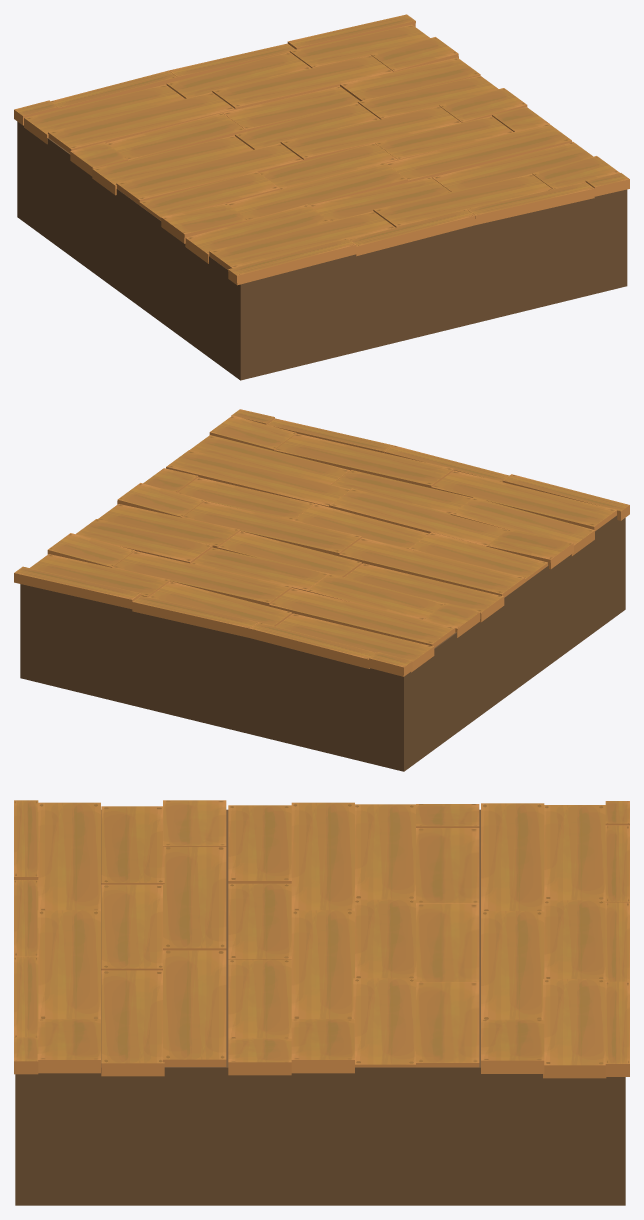
Rendered from floor.glb.
The picture shows the model from 3 angles, top to bottom: view 1: azimuth 30°, elevation 25°; view 2: azimuth 150°, elevation 25°; view 3: azimuth 270°, elevation 25°; orthographic projection. The views are drawn at different scales.
Parts seen in each view (by area): view 1: Tablones, Base; view 2: Tablones, Base; view 3: Tablones, Base.
Part boxes in pixels (bbox=[...]): Tablones: bbox=[14, 14, 629, 285]; Base: bbox=[17, 121, 627, 380]; Tablones: bbox=[14, 409, 629, 676]; Base: bbox=[20, 515, 625, 771]; Tablones: bbox=[14, 800, 629, 1078]; Base: bbox=[15, 809, 625, 1205].
Bounding box in the file's own units: 8.18 × 2.14 × 8.08.
Materials: 21 (20 with a texture image).
